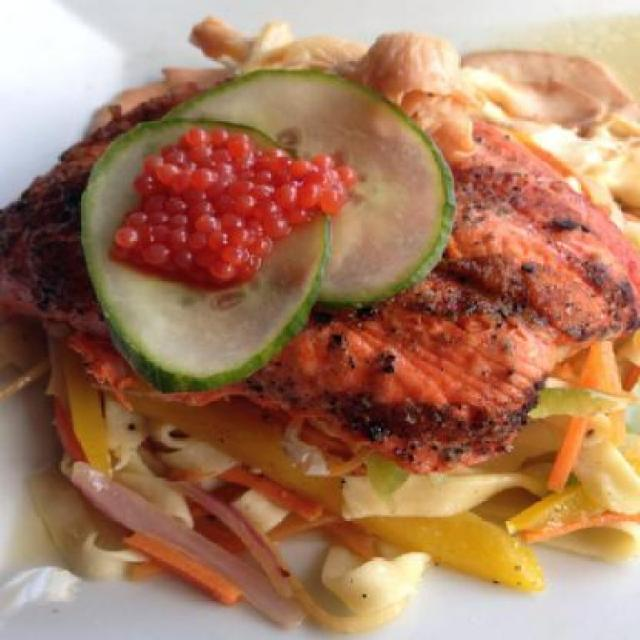Zucchini: (75, 110, 333, 388), (228, 51, 466, 342)
